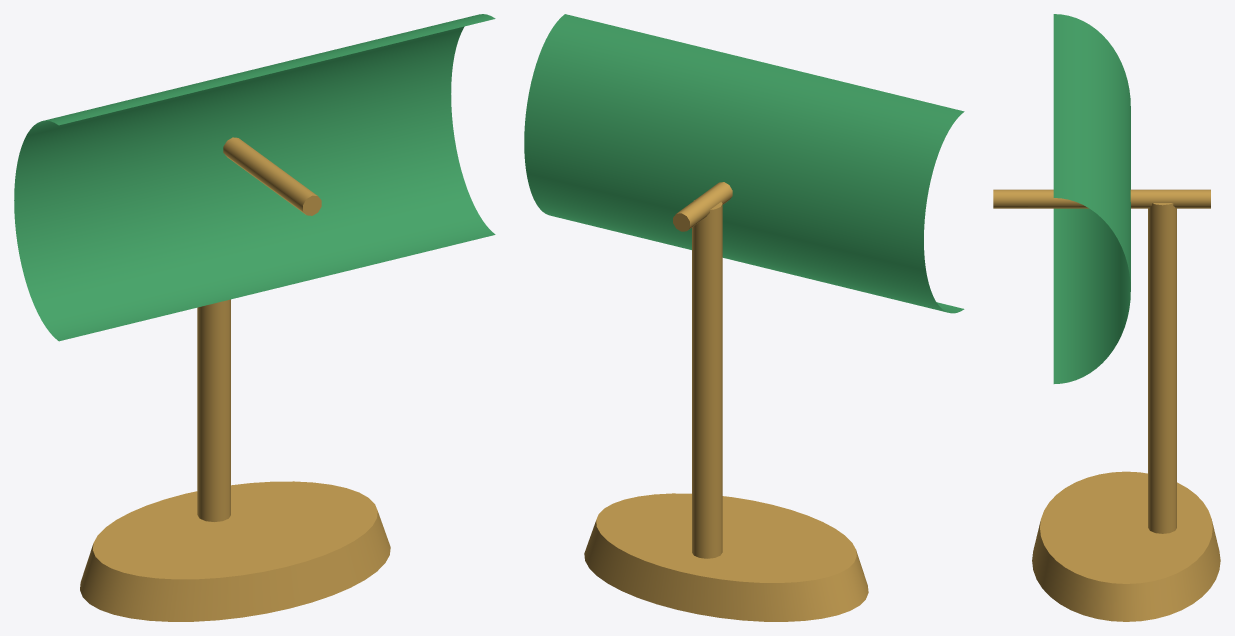
The model's file is luminaria-banqueiro-verde.glb.
The picture shows the model from 3 angles, left to right: view 1: azimuth 30°, elevation 25°; view 2: azimuth 150°, elevation 25°; view 3: azimuth 270°, elevation 25°; orthographic projection. The views are drawn at different scales.
Visible parts, largest first — view 1: deskLamp; view 2: deskLamp; view 3: deskLamp.
Boxes of the visible parts, bbox=[...] form: deskLamp: bbox=[14, 14, 495, 621]; deskLamp: bbox=[524, 14, 964, 621]; deskLamp: bbox=[993, 14, 1220, 621].
Size of the model in its own units: 0.36 by 0.415 by 0.188.
